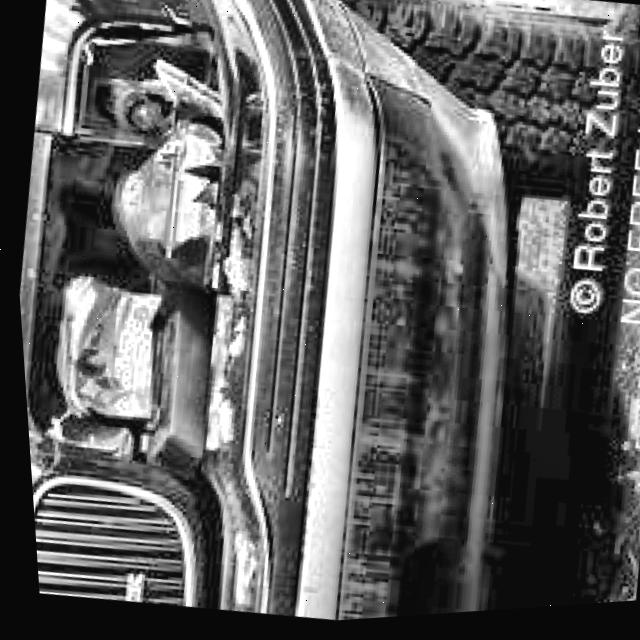head_lamp: (11, 15, 294, 478)
